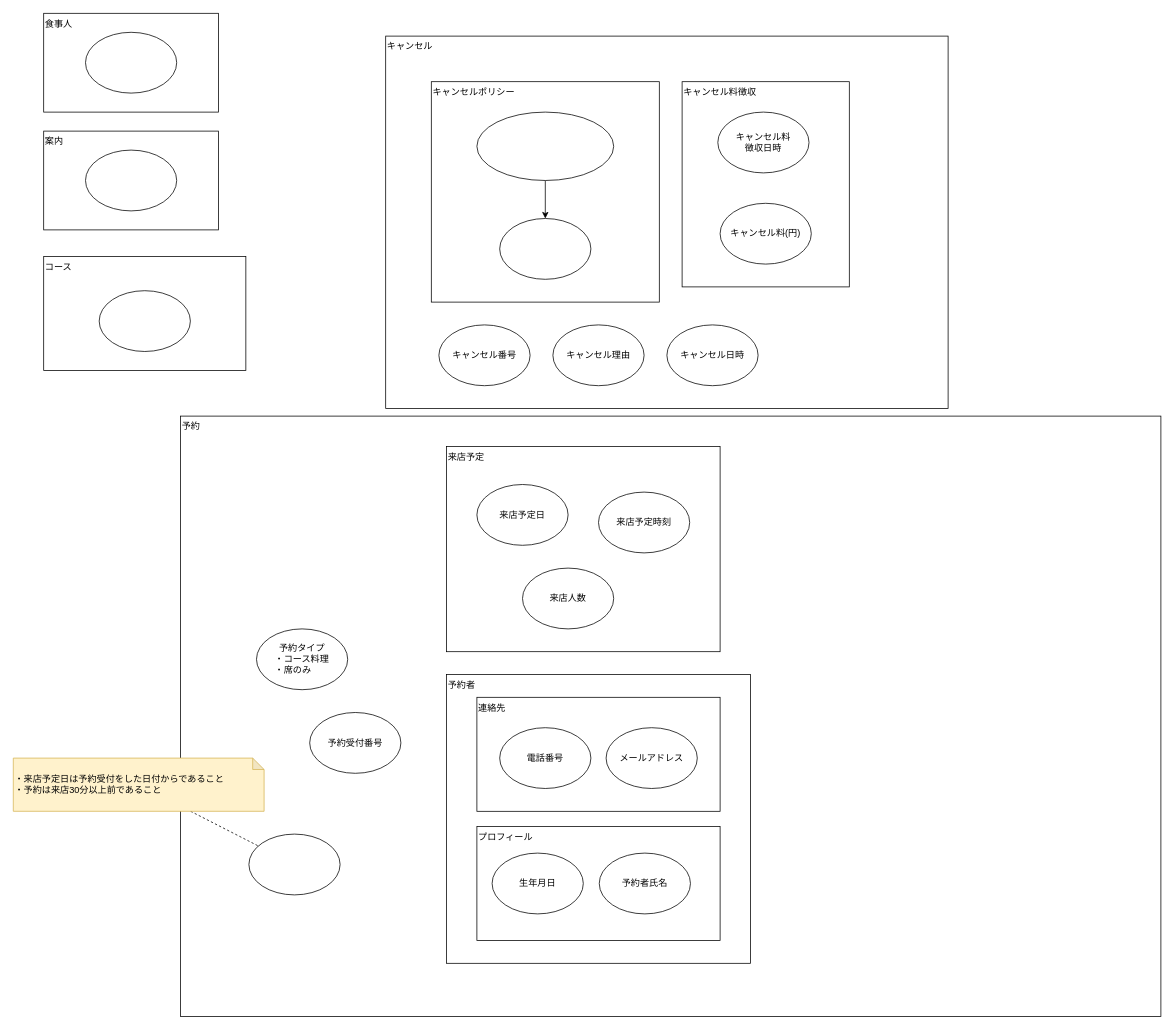
The diagram is 1174 pixels wide and 1030 high, and some of its shapes have lost their labels. The shapes that lost their labels are listed below. From the top down, each one's centre as x and y in pixels, then its label:
the point at 131,62: 食事人ID
the point at 545,145: キャンセルポリシー ・当日 ・前日 ・2日前 ・2日前以前
the point at 131,180: 案内日時
the point at 545,248: キャンセル料(%)
the point at 144,321: コースID
the point at 294,864: 予約受付ルール
